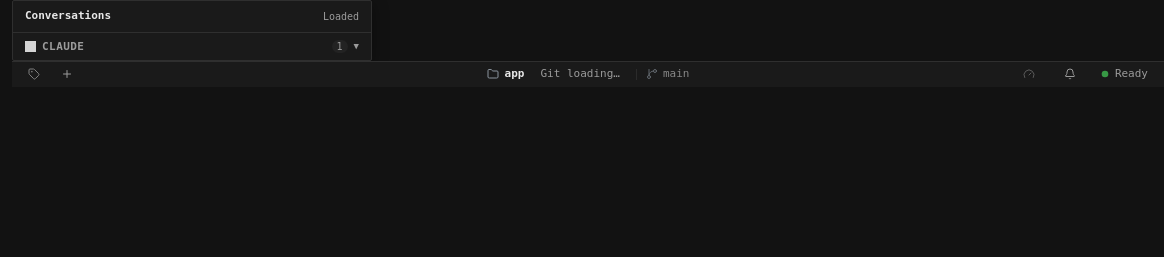
Test: resuming isolated-agent conversations from chat history › surfaces a precise refusal when a harness cannot resume without its directory
The image size is (1164, 257).
Click the button "Claude 1 ▼".
click(63, 46)  # box [13,32,371,60]
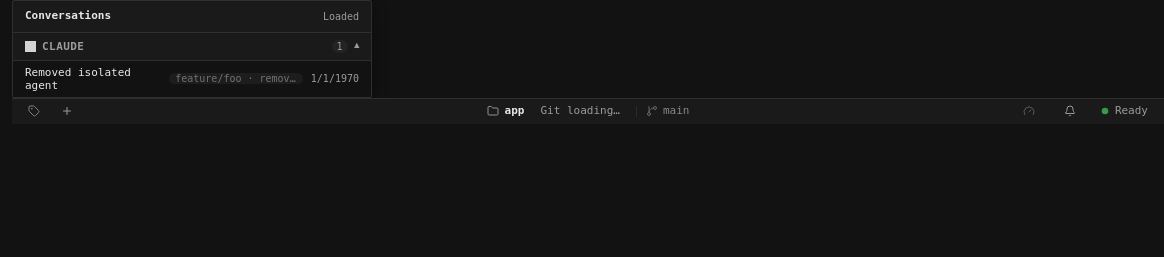
Click the button "Removed isolated agent feature/foo · removed 1/1/1970".
click(192, 78)  # box [13,60,371,96]
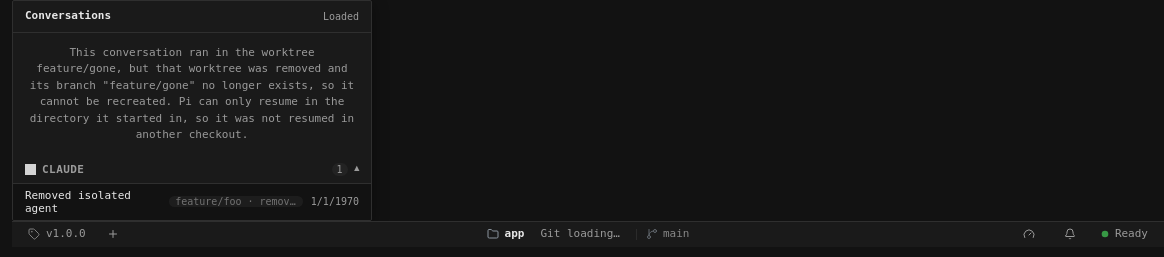
Check: the 2nd message shows "Pi can only resume in the directory it started in", box [30,46,354,141]
